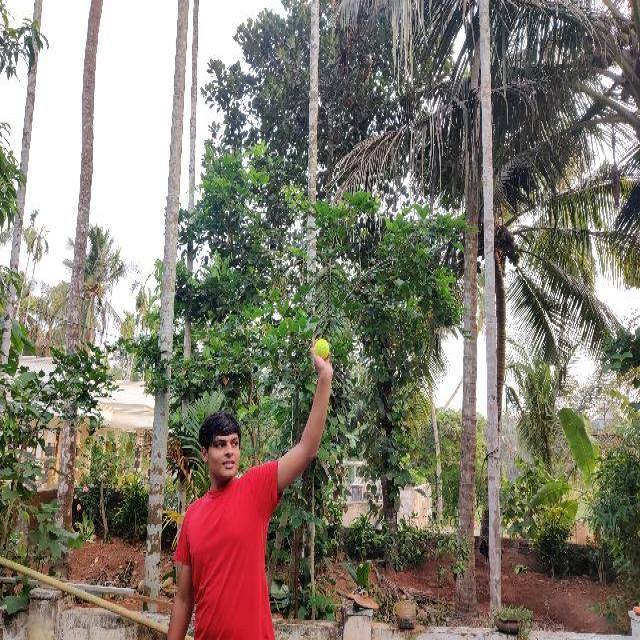tennis-ball: (314, 338, 329, 358)
